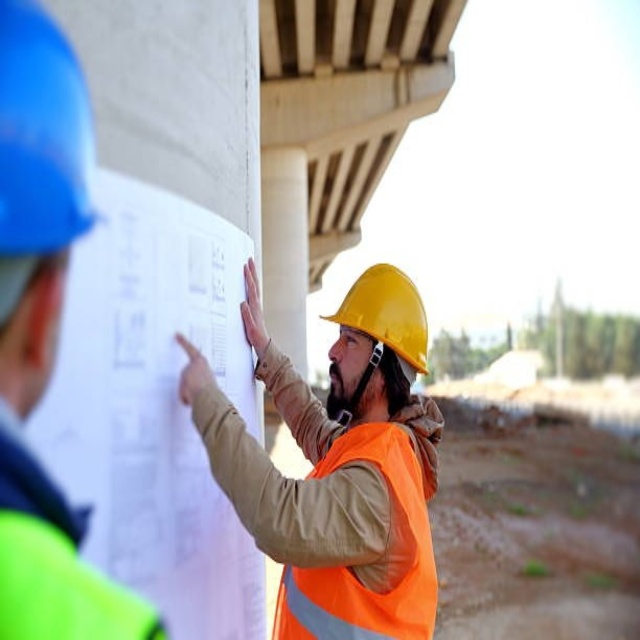Sin_gafas: (336, 326, 362, 351)
Sin_guantes: (172, 329, 221, 405), (239, 260, 271, 363)
Sin_mascara: (326, 355, 349, 414)
